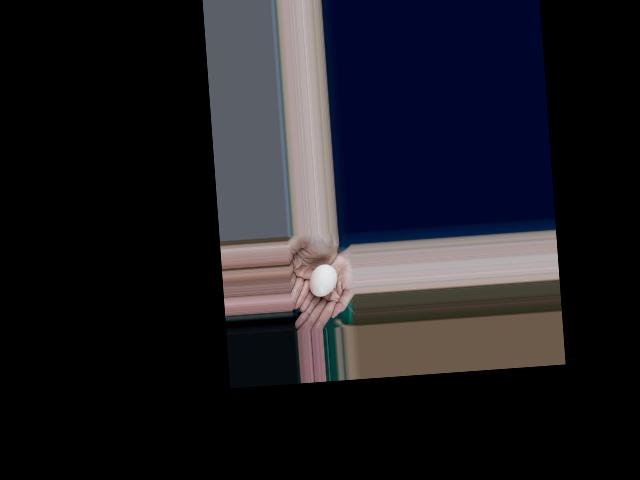egg: (308, 264, 337, 297)
